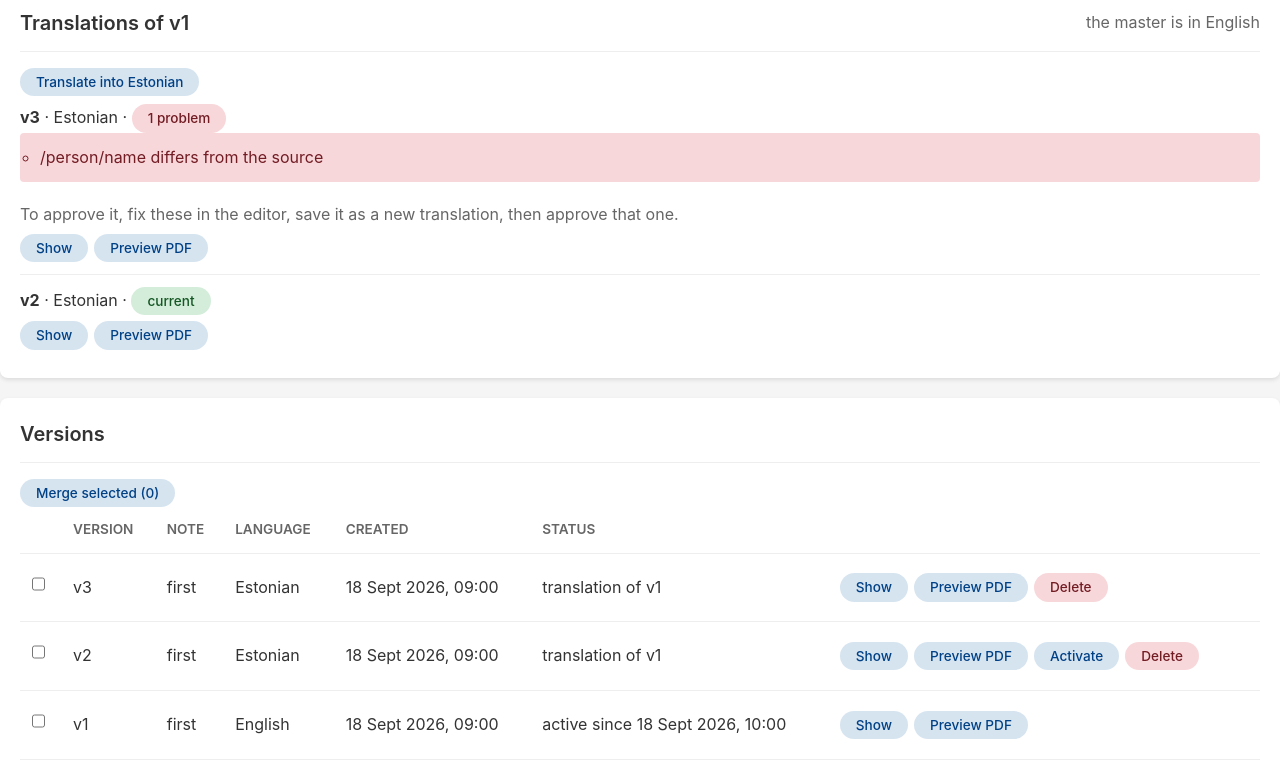
Test: MasiCv › translations › offers to activate an approved translation as its language's CV, and shows each language's active one
(page scrolled)
Click the button "Activate": click(1077, 656) [1034,642,1119,670]
(page scrolled)
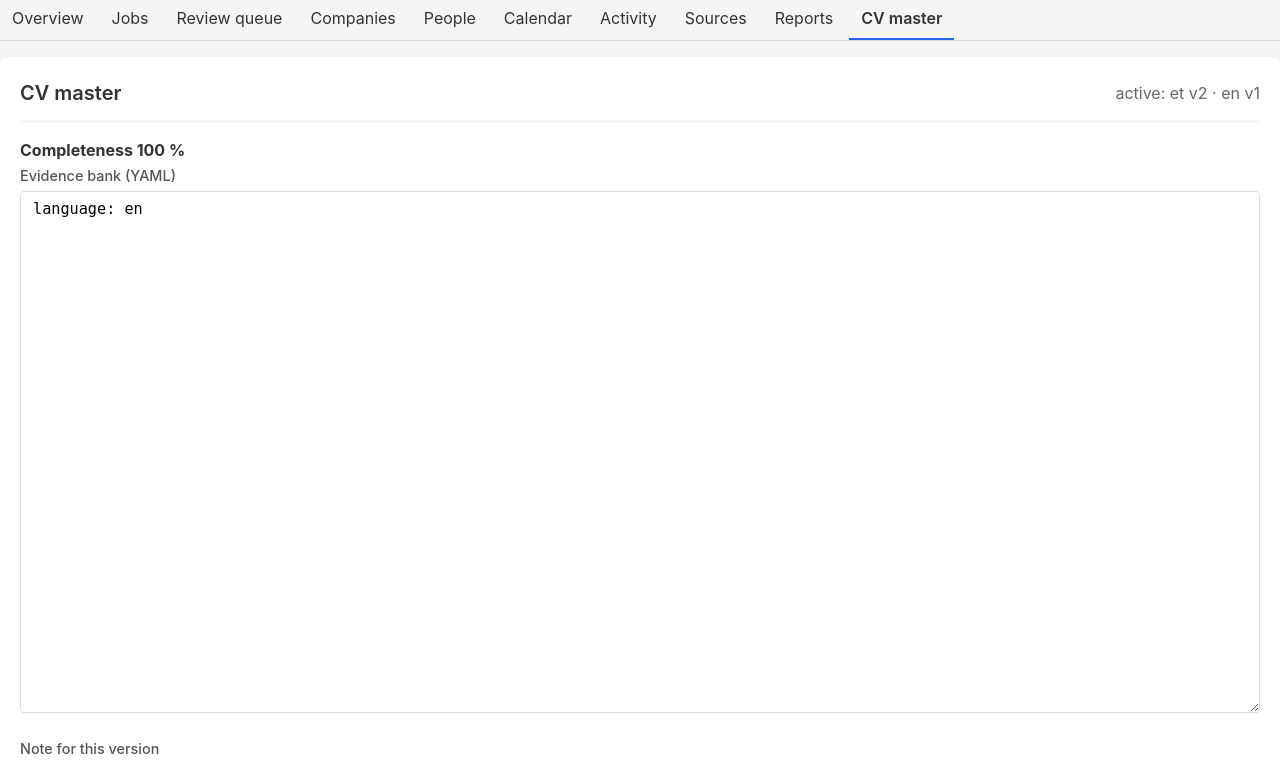
Result: the text "active: et v2 · en v1" is shown at [1115,81,1260,106]
